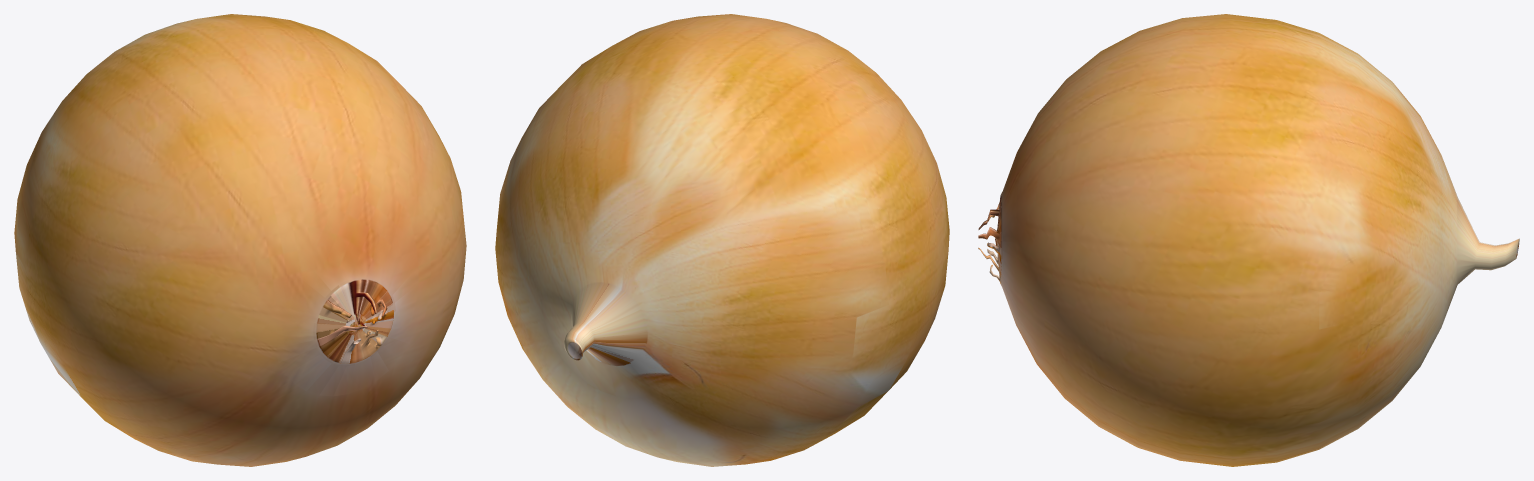
Rendered from onion.fbx.
The picture shows the model from 3 angles, left to right: view 1: azimuth 30°, elevation 25°; view 2: azimuth 150°, elevation 25°; view 3: azimuth 270°, elevation 25°; orthographic projection.
Parts seen in each view (by area): view 1: Sphere; view 2: Sphere; view 3: Sphere.
Boxes of the visible parts, x1,y1,x2,y2 form: Sphere: (14,14,466,466); Sphere: (495,14,949,466); Sphere: (978,14,1519,466).
Size of the model in its own units: 7.04 by 7 by 8.4.
